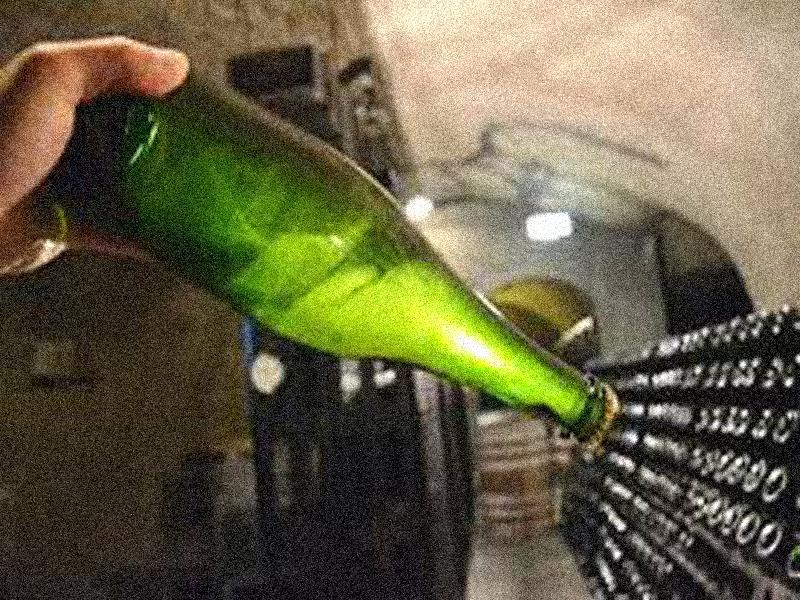Beer: (55, 56, 620, 456)
